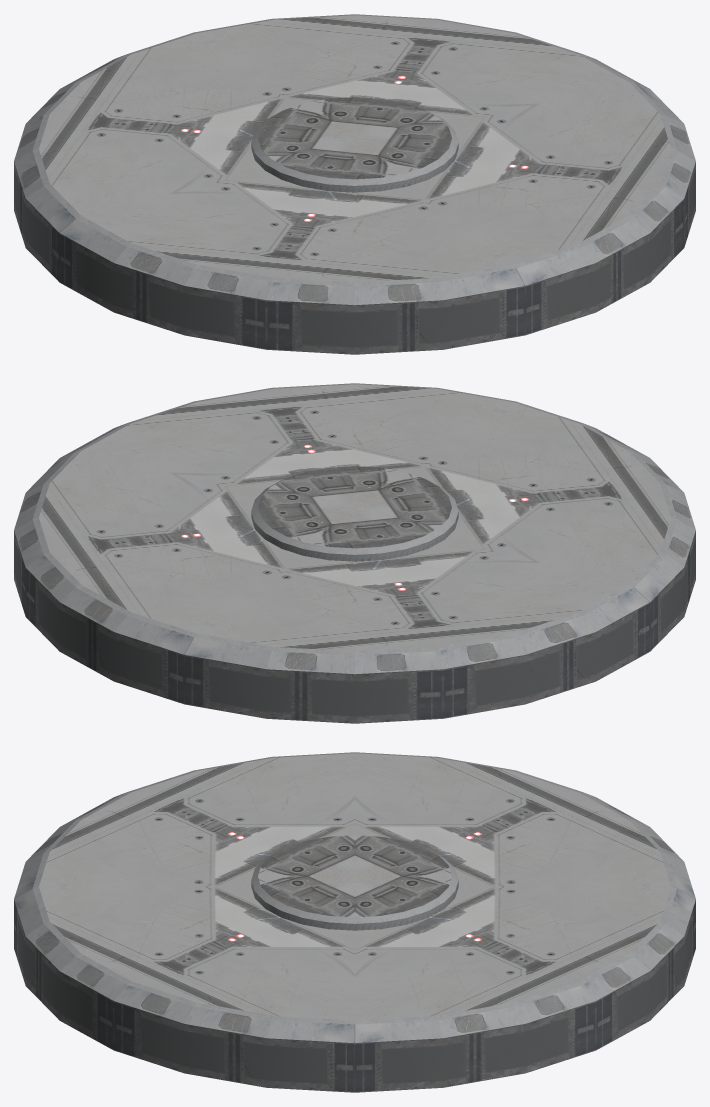
The model's file is SM_SRounded1.fbx.
3 renders of one model, top to bottom at view 1: azimuth 30°, elevation 25°; view 2: azimuth 150°, elevation 25°; view 3: azimuth 270°, elevation 25°, orthographic.
Visible parts, largest first — view 1: SM_SRounded1_LOD0; view 2: SM_SRounded1_LOD0; view 3: SM_SRounded1_LOD0.
Part boxes in pixels (box(x1,y1,x2,y2)): SM_SRounded1_LOD0: box(14, 14, 695, 354); SM_SRounded1_LOD0: box(14, 383, 695, 723); SM_SRounded1_LOD0: box(14, 752, 695, 1092).
Bounding box in the file's own units: 400 × 400 × 46.81.
3 materials, 3 textured.
